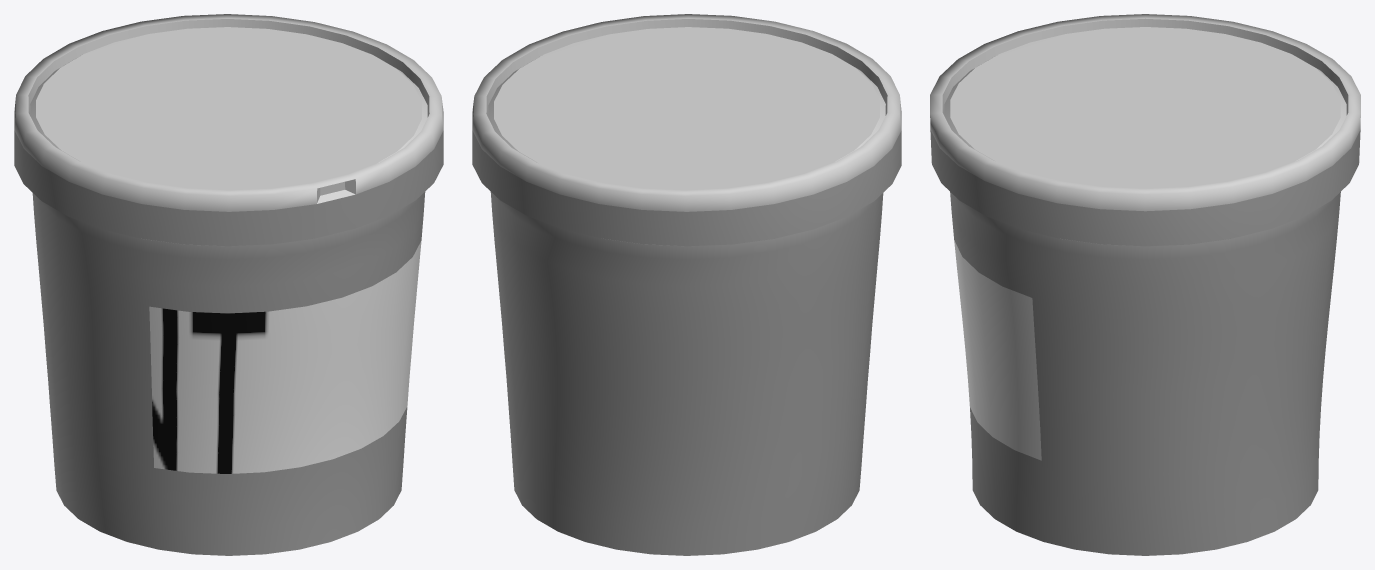
Rendered from Emmer.fbx.
3 views of the same model, side by side, from view 1: azimuth 30°, elevation 25°; view 2: azimuth 150°, elevation 25°; view 3: azimuth 270°, elevation 25° (orthographic).
Parts seen in each view (by area): view 1: pCylinder2; view 2: pCylinder2; view 3: pCylinder2.
Boxes of the visible parts, box(x1,y1,x2,y2) form: pCylinder2: box(14, 14, 443, 555); pCylinder2: box(472, 14, 901, 555); pCylinder2: box(930, 14, 1360, 555).
Bounding box in the file's own units: 0.0577 × 0.0557 × 0.0574.
Materials: 3 (1 with a texture image).
